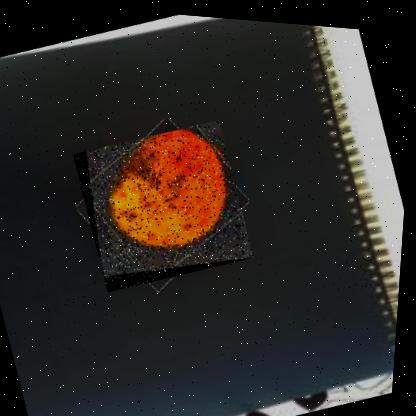mango_rotten: (67, 104, 264, 298)
